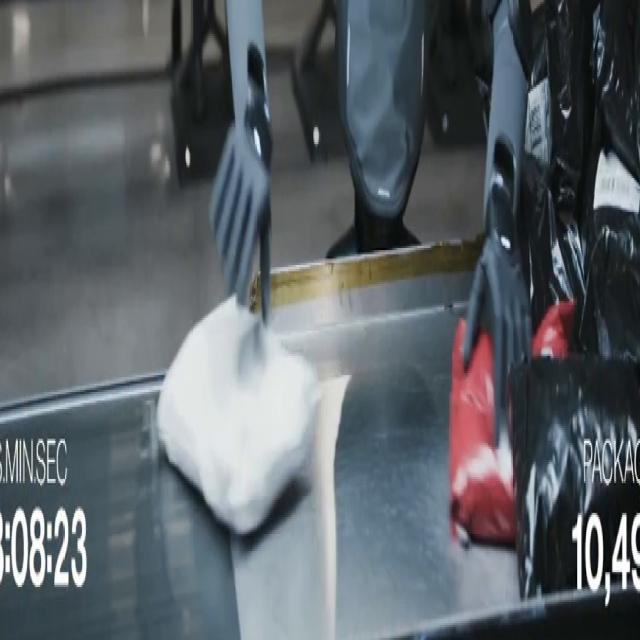package: (157, 297, 320, 534), (510, 354, 639, 597), (450, 320, 515, 544), (578, 151, 639, 362), (518, 155, 584, 330), (544, 0, 594, 218), (594, 0, 639, 182), (525, 5, 550, 165), (525, 5, 549, 165)
